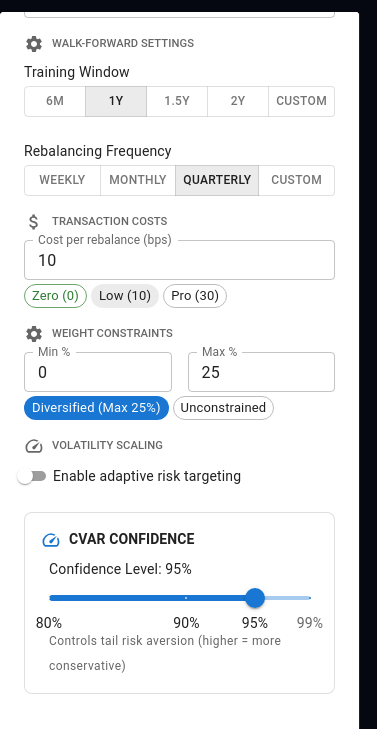
Scenario: Sidebar parameter guard › recommends a max weight from the ticker count, and stops once you set one
(page scrolled)
Check: the text "Diversified (Max 25%)" is shown, box [24,398,169,418]
Replace the text in the number field labelled "Max %" with "40" at (261, 372), box [188,352,335,392]
(page scrolled)
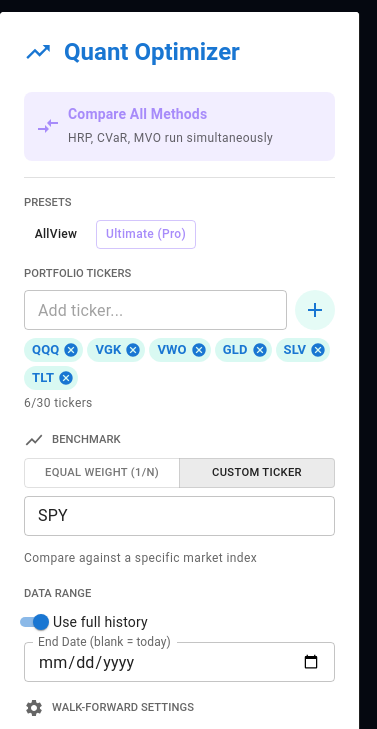
# Adding a ticker must NOT overwrite the manual choice any more.
Type "SPY" into the field with placeholder "Add ticker...".
click(156, 310); type("SPY")  # box [24,290,287,330]
Then press Enter
(page scrolled)
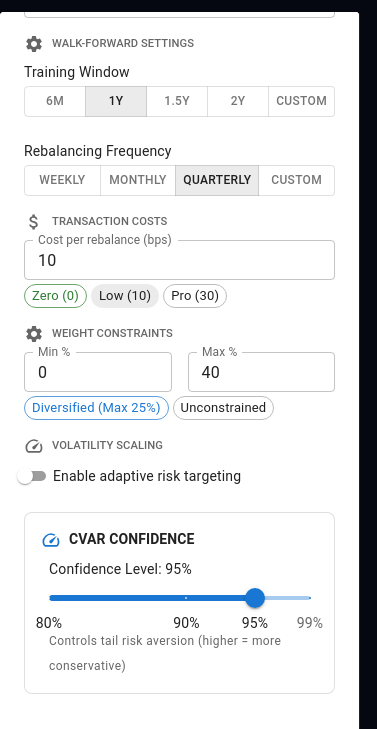
Check: the text "Diversified (Max 25%)" is shown, box [25,398,168,418]
